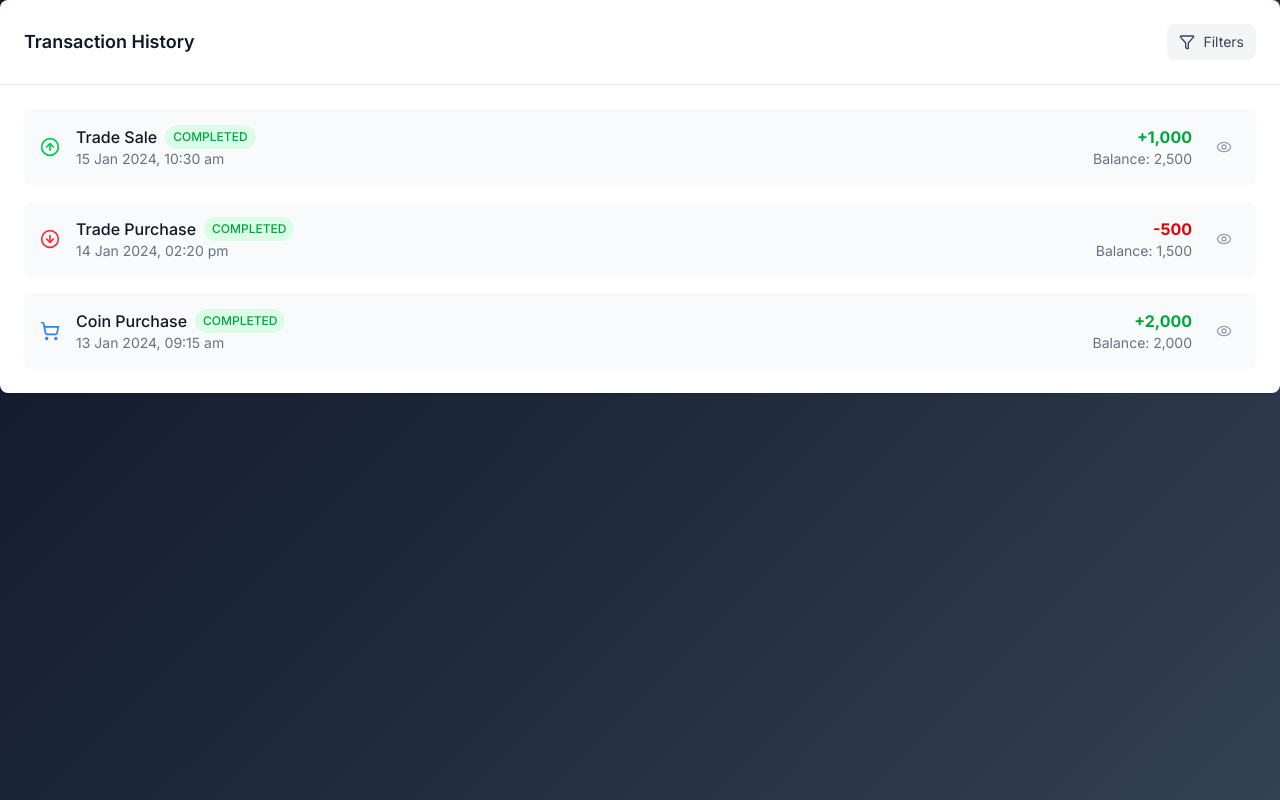
CoinTransactionHistory › Transaction Details Modal › should close transaction details modal when close button is clicked
This screenshot has width=1280, height=800.
Click the button titled "View details" next to "1,000" at {"x": 1224, "y": 147}, box x1=1208 y1=131 x2=1240 y2=163
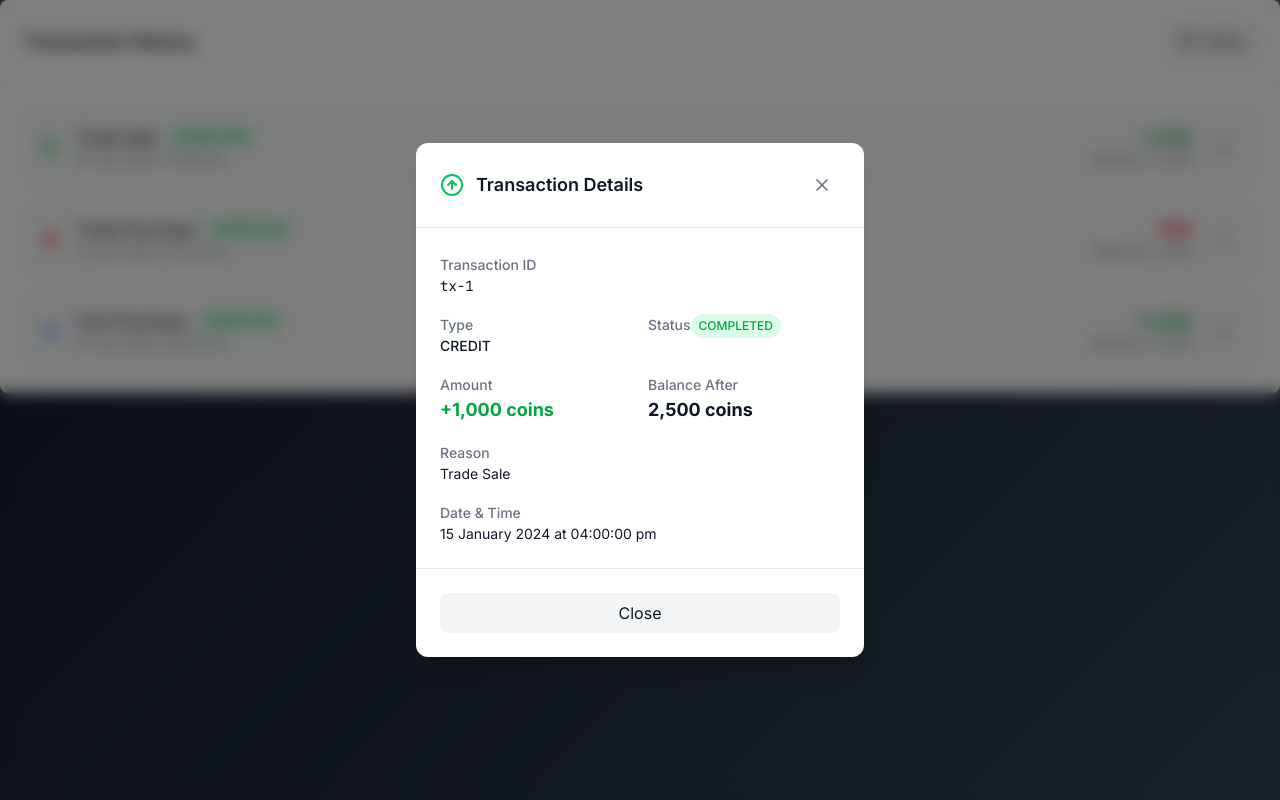
expect the heading "Transaction Details" is shown: met, box x1=476 y1=171 x2=643 y2=199
Click the button "Close" at {"x": 640, "y": 613}, box x1=440 y1=593 x2=840 y2=633
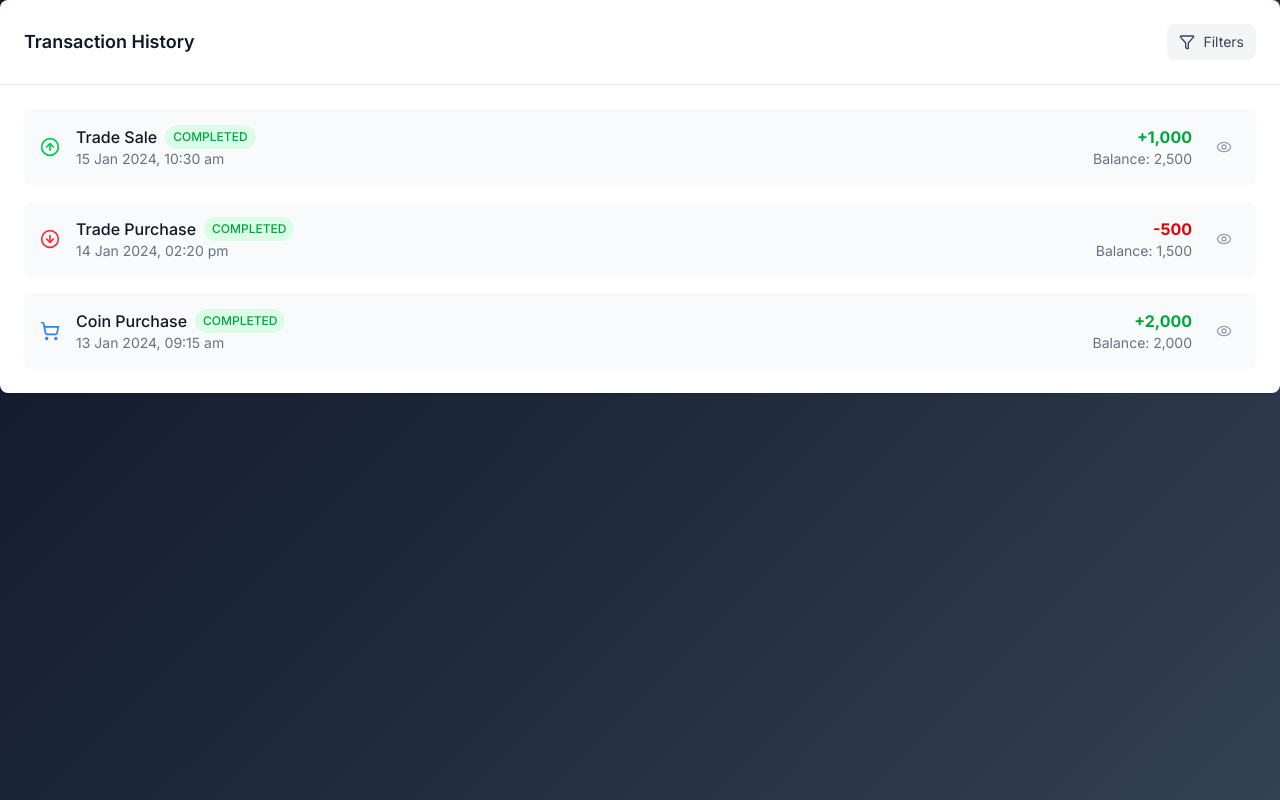
expect the heading "Transaction Details" is gone: met
